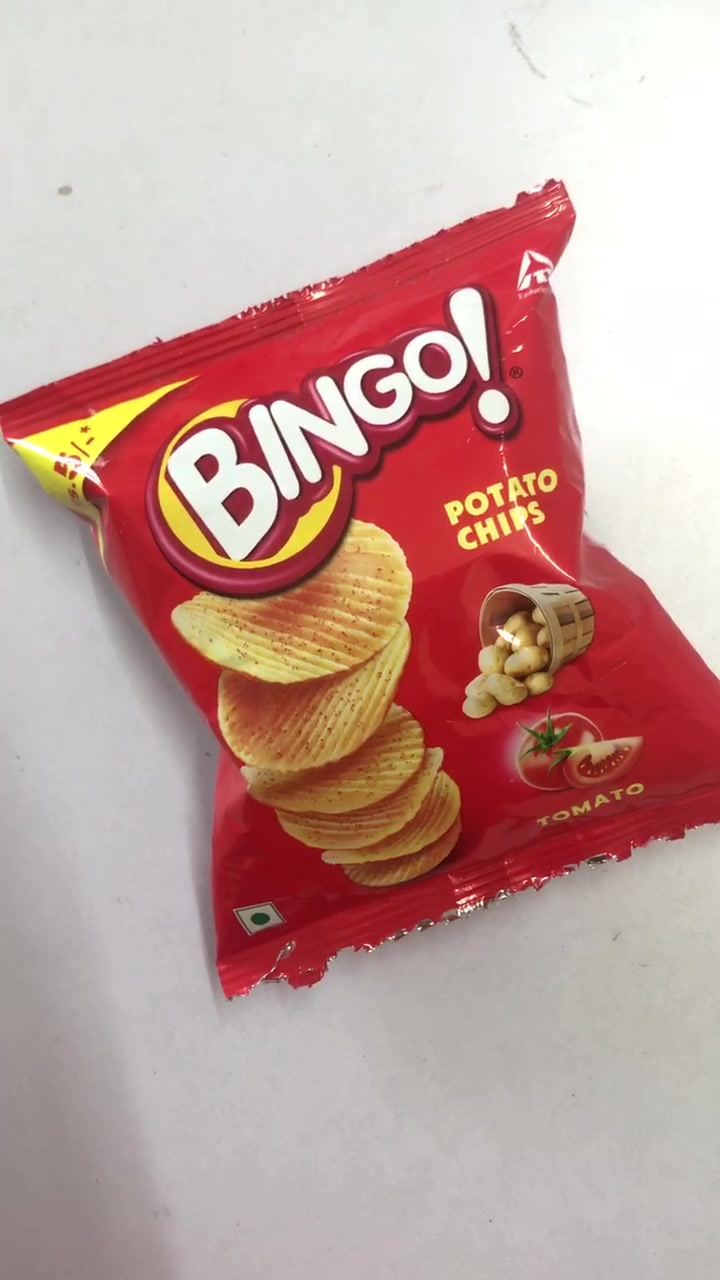Bingo: (31, 227, 720, 919)
